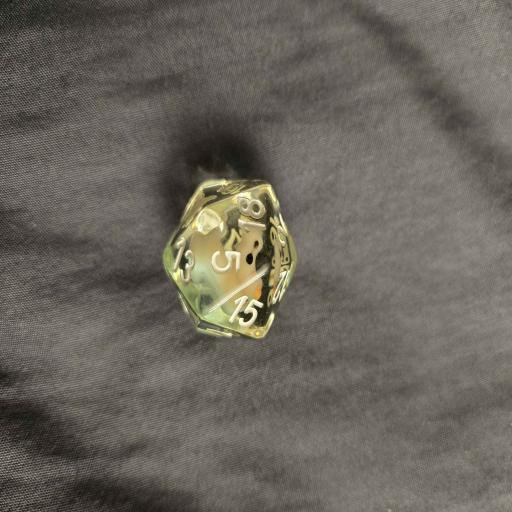twenty sided dice: (164, 179, 298, 338)
